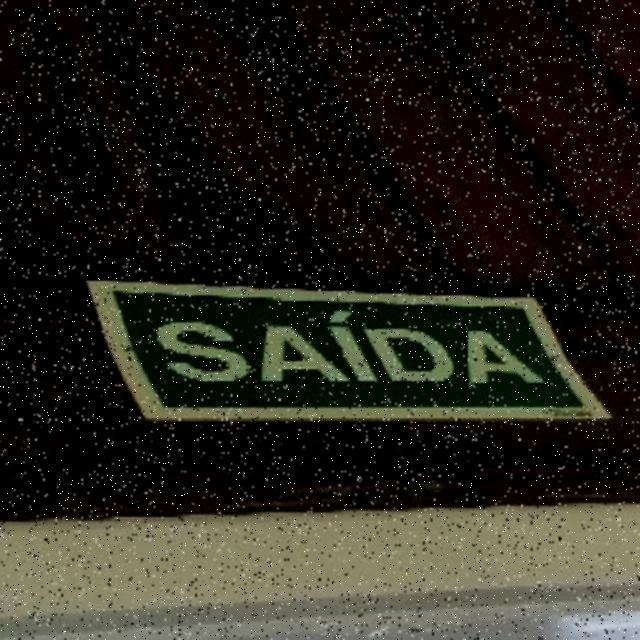emergency_exit: (86, 278, 612, 424)
